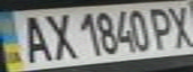0: (127, 6, 154, 52)
1: (72, 8, 100, 57)
4: (112, 7, 136, 54)
8: (93, 8, 118, 55)
A: (12, 11, 54, 63)
P: (145, 4, 178, 51)
X: (39, 9, 78, 61), (163, 2, 193, 50)
